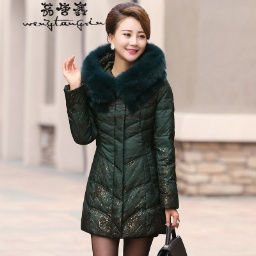face: (100, 3, 153, 63)
